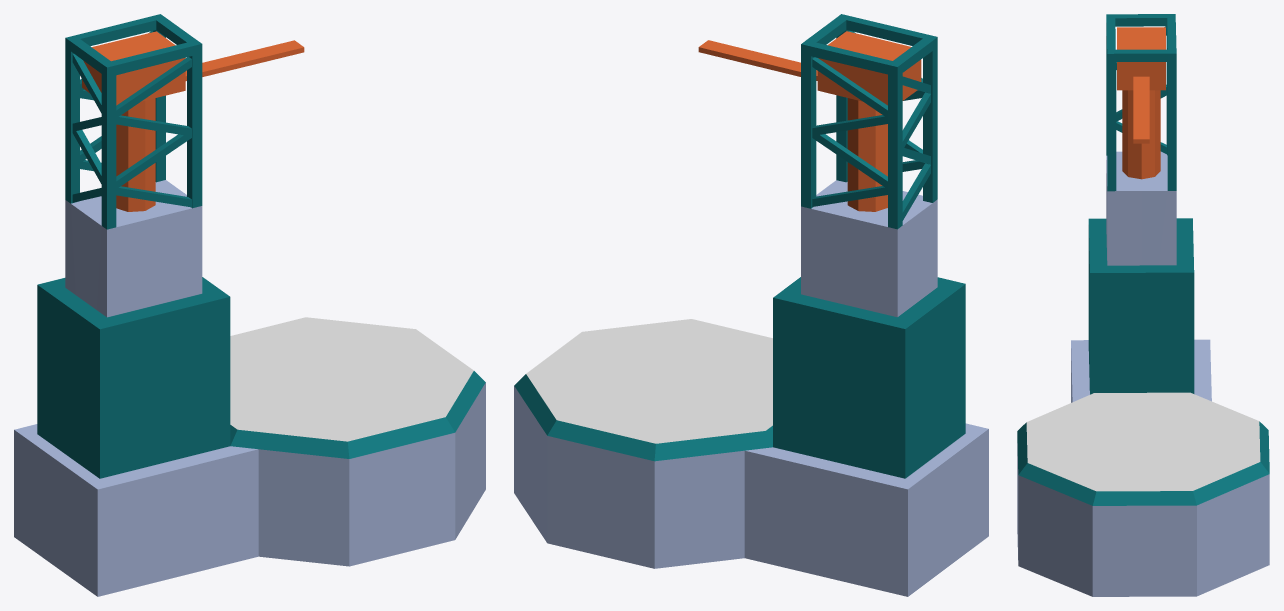
Rendered from launch pad and stand.fbx.
The picture shows the model from 3 angles, left to right: view 1: azimuth 30°, elevation 25°; view 2: azimuth 150°, elevation 25°; view 3: azimuth 270°, elevation 25°; orthographic projection. The views are drawn at different scales.
Visible parts, largest first — view 1: Cylinder, Cube.005, Cube; view 2: Cylinder, Cube.005, Cube; view 3: Cylinder, Cube.
Part boxes in pixels (<box>): Cylinder: <box>14,14,485,596</box>; Cube.005: <box>72,31,191,207</box>; Cube: <box>82,31,304,105</box>; Cylinder: <box>514,14,988,596</box>; Cube.005: <box>812,31,930,220</box>; Cube: <box>698,31,921,105</box>; Cylinder: <box>1017,14,1269,596</box>; Cube: <box>1117,27,1165,143</box>.
Size of the model in its own units: 3046 by 3667 by 1955.
